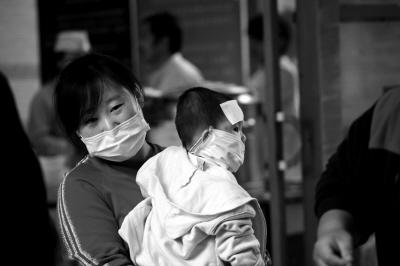NONE: (140, 29, 166, 64)
WRONG: (73, 91, 143, 161), (194, 116, 250, 172)
